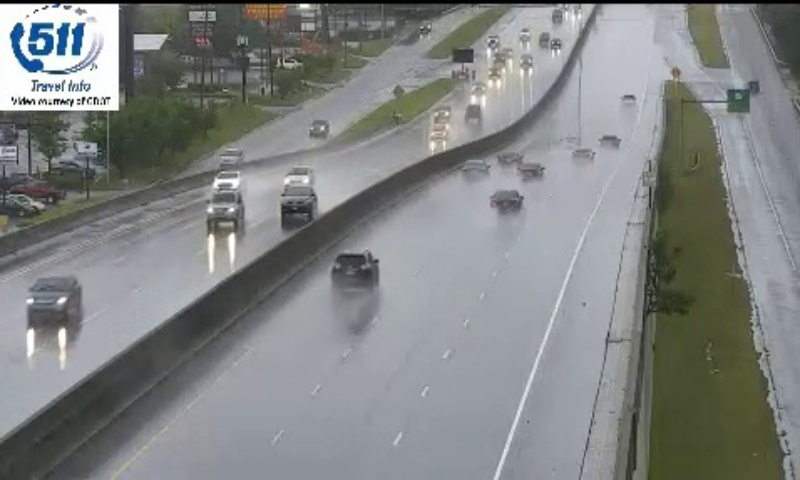car: (331, 251, 378, 287), (491, 189, 523, 213)
